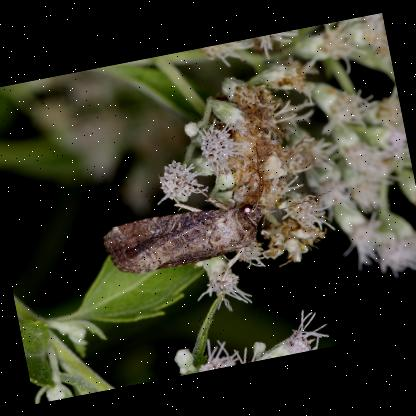Fall Armyworm Moth: (86, 127, 341, 285)
